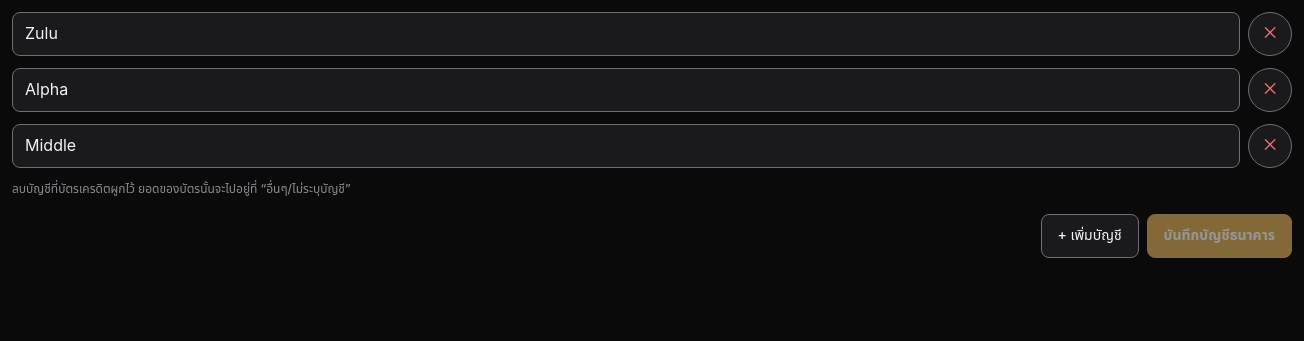
Test: bank manager flags every row when three accounts share the same name
The width and height of the screenshot is (1304, 341).
Replace the text in the field named "ชื่อบัญชี 1" with "Middle" at x=626, y=34, box [12, 12, 1240, 56]
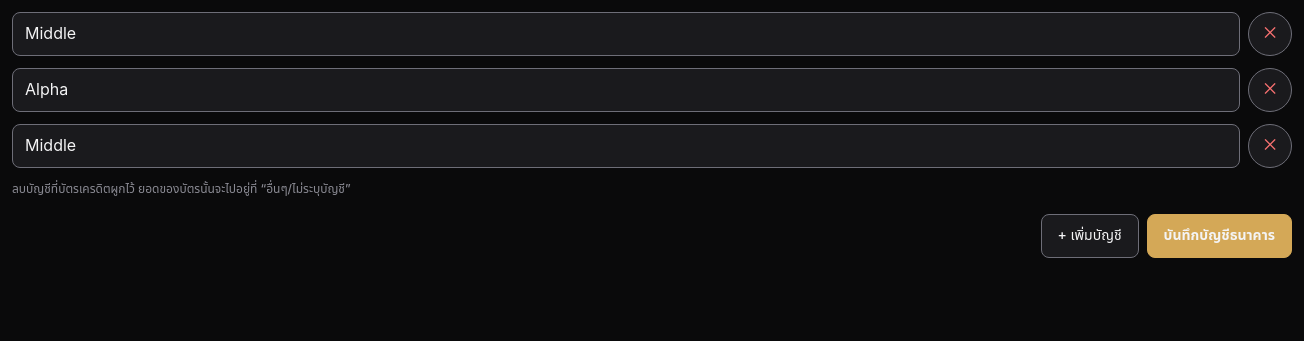
Replace the text in the field named "ชื่อบัญชี 2" with "Middle" at x=626, y=90, box [12, 68, 1240, 112]
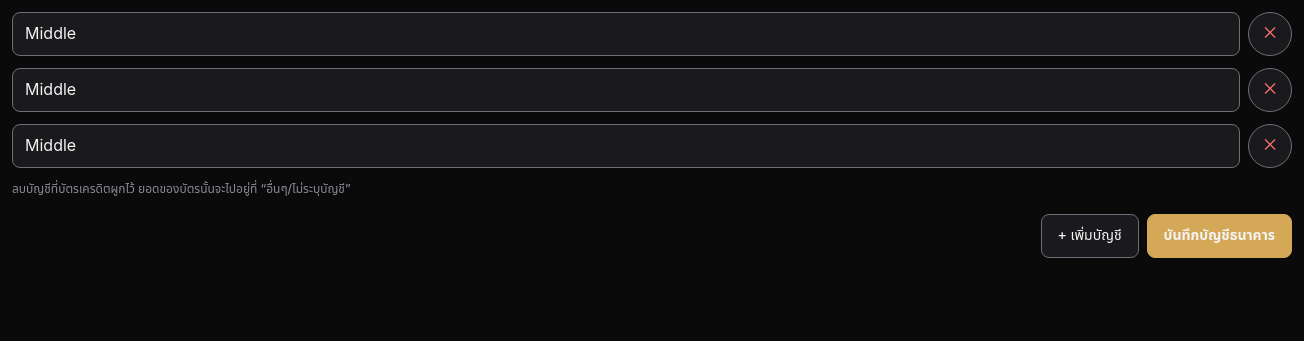
Click the button "บันทึกบัญชีธนาคาร" at x=1219, y=236, box [1147, 214, 1292, 258]
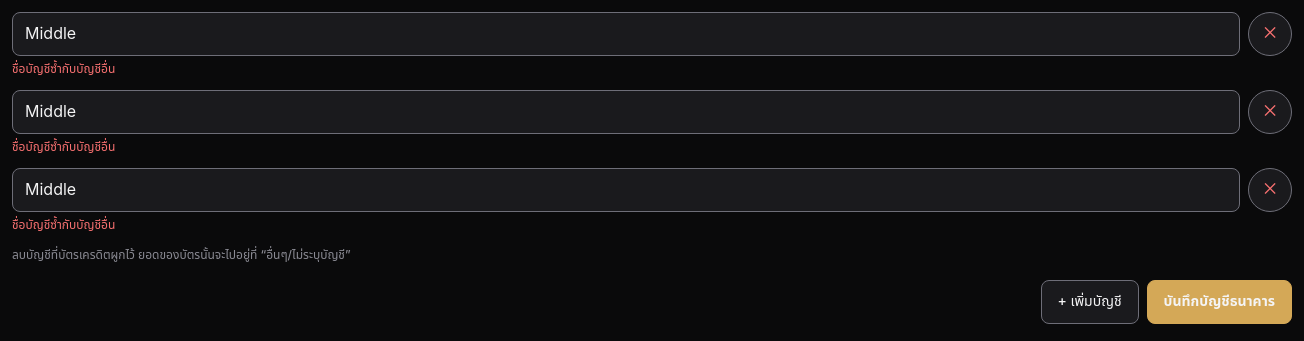
Now the text "ชื่อบัญชีซ้ำกับบัญชีอื่น" is shown 3 times, box [12, 60, 115, 78]; [12, 138, 115, 156]; [12, 216, 115, 234]
